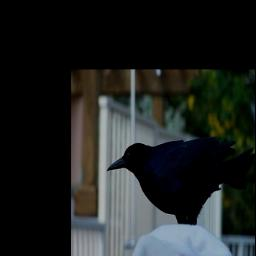Crow: (106, 135, 253, 223)
